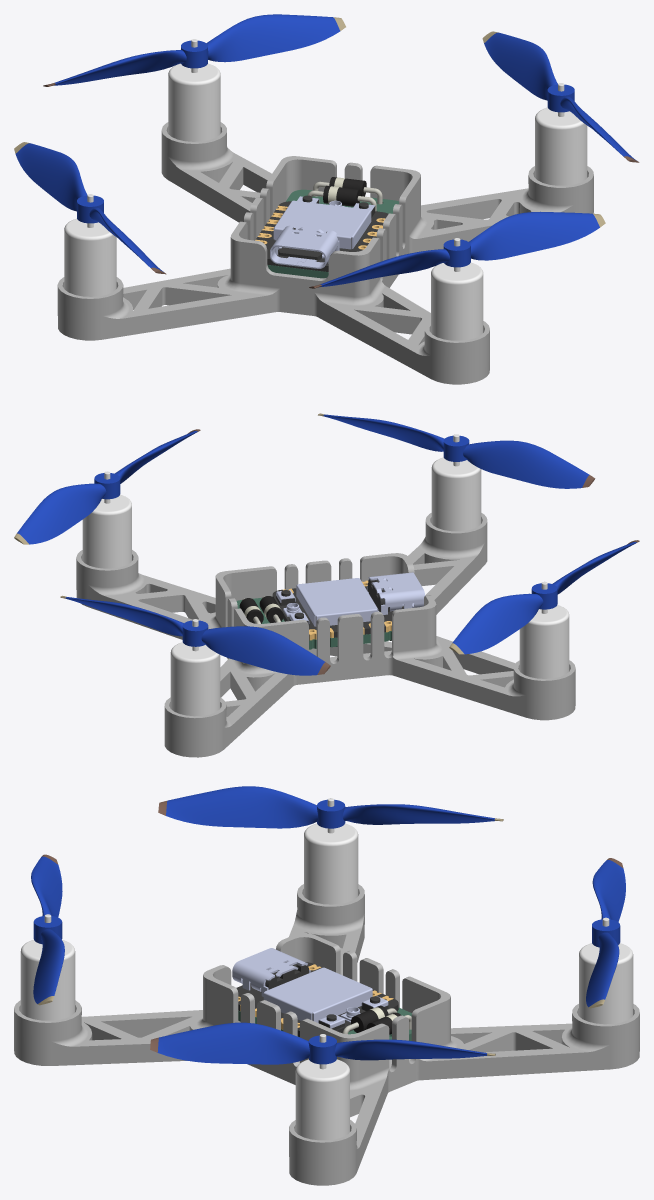
The model's file is DroneAssembly.glb.
The picture shows the model from 3 angles, top to bottom: view 1: azimuth 30°, elevation 25°; view 2: azimuth 150°, elevation 25°; view 3: azimuth 270°, elevation 25°; orthographic projection. The views are drawn at different scales.
Parts seen in each view (by area): view 1: Solid1 (×13), Solid2, Solid43; view 2: Solid1 (×10), Solid2, Solid43; view 3: Solid1 (×11), Solid2, Solid43.
Boxes of the visible parts, x1,y1,x2,y2 form: Solid1 (×13): [14, 14, 639, 384]; Solid2: [273, 200, 371, 249]; Solid43: [270, 225, 339, 268]; Solid1 (×10): [14, 413, 639, 757]; Solid2: [296, 578, 378, 626]; Solid43: [367, 572, 425, 614]; Solid1 (×11): [14, 786, 639, 1185]; Solid2: [263, 967, 372, 1022]; Solid43: [232, 948, 310, 996].
Bounding box in the file's own units: 0.092 × 0.0231 × 0.092.
